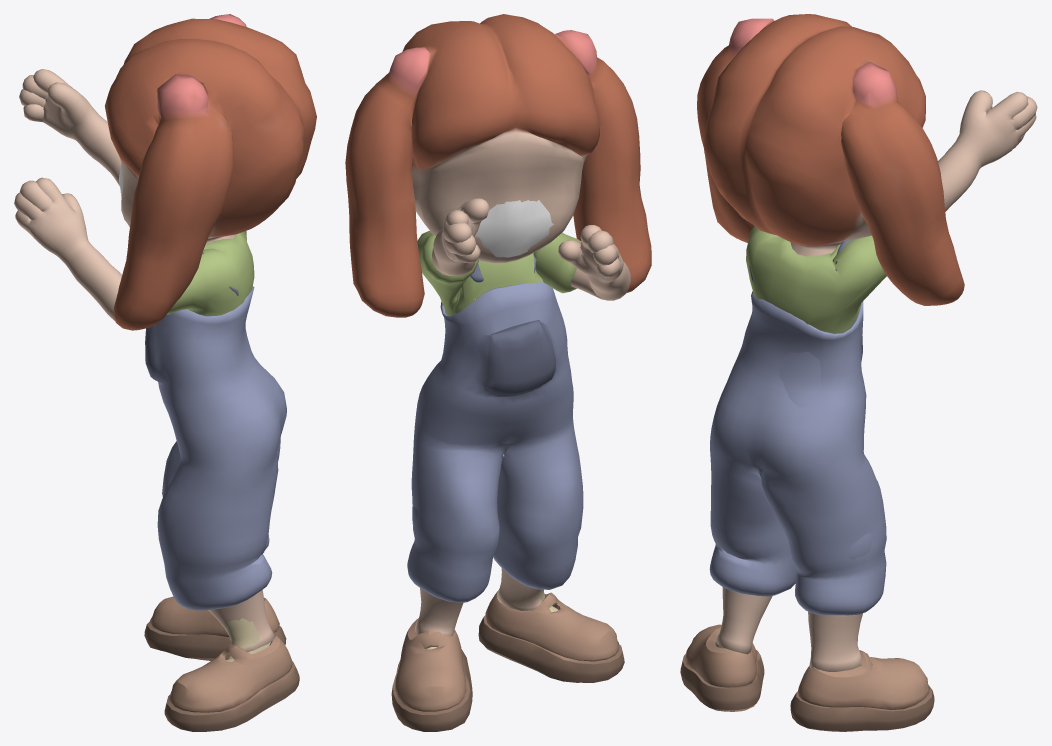
The picture shows the model from 3 angles, left to right: view 1: azimuth 30°, elevation 25°; view 2: azimuth 150°, elevation 25°; view 3: azimuth 270°, elevation 25°; orthographic projection. The views are drawn at different scales.
Parts seen in each view (by area): view 1: Arms.061; view 2: Arms.061; view 3: Arms.061.
Part boxes in pixels (<box>): Arms.061: <box>14,14,316,731</box>; Arms.061: <box>345,14,651,731</box>; Arms.061: <box>680,14,1037,731</box>.
Size of the model in its own units: 66.1 by 162 by 77.49.
